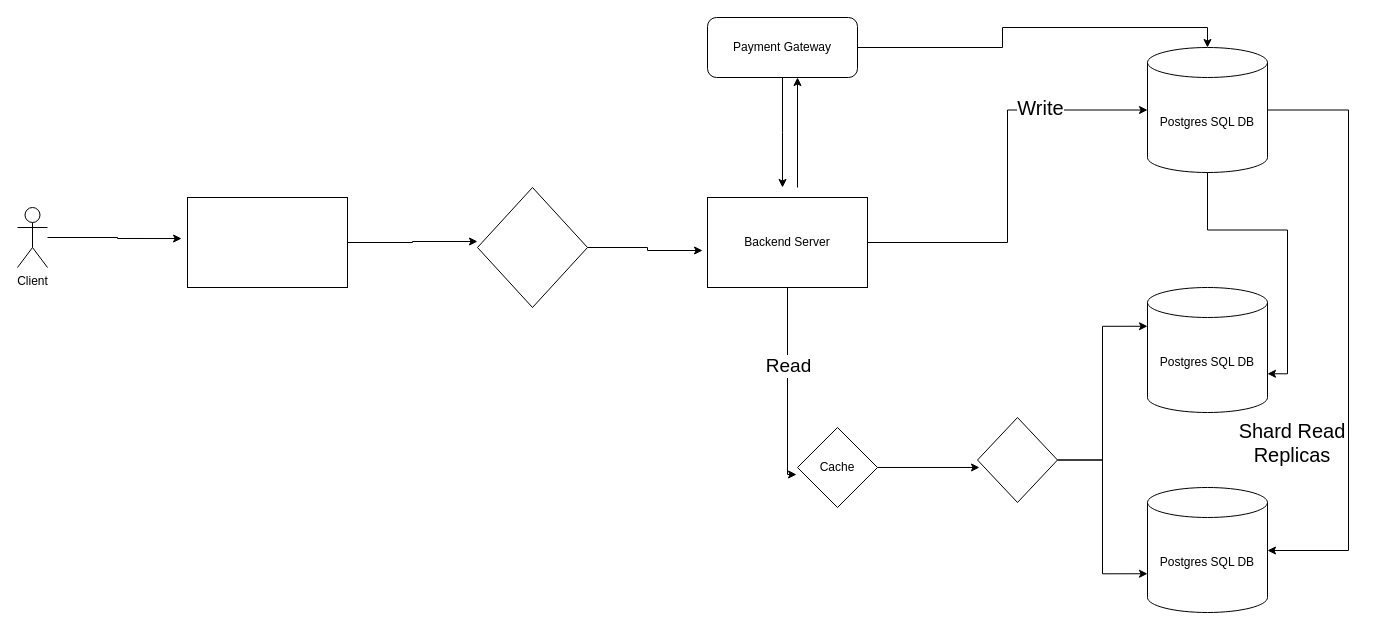
Image size: 1385x630. Some labels were removed from this diagram. The shapes that lost their labels are listed below. From the top down, each one's centre as x and y in pixels, then its label:
At point (267, 242): "Android APP".
At point (532, 247): "API Gateway".
At point (1017, 459): "Load Balance".
